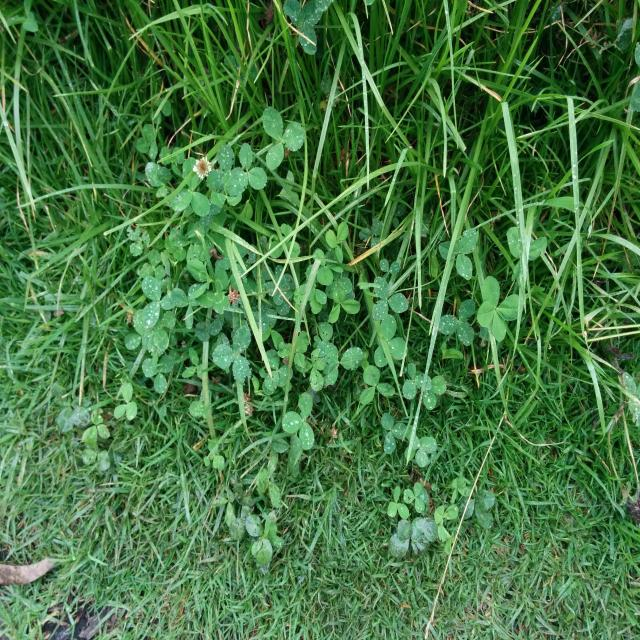Four Leaf Clover: (477, 275, 524, 342)
